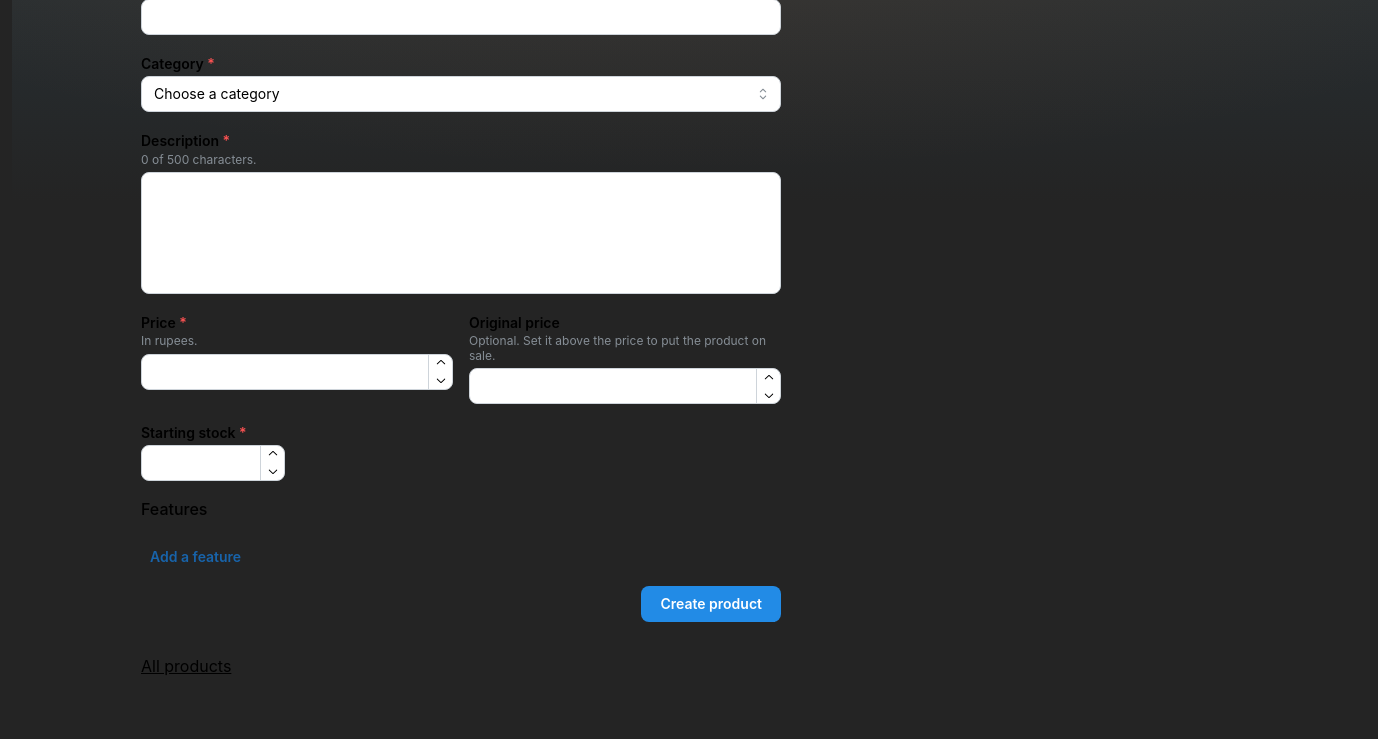
Test: new product › explains what's missing without sending anything
This screenshot has width=1378, height=739.
(page scrolled)
Click the button "Add a feature": (196, 557) [141, 544, 250, 570]
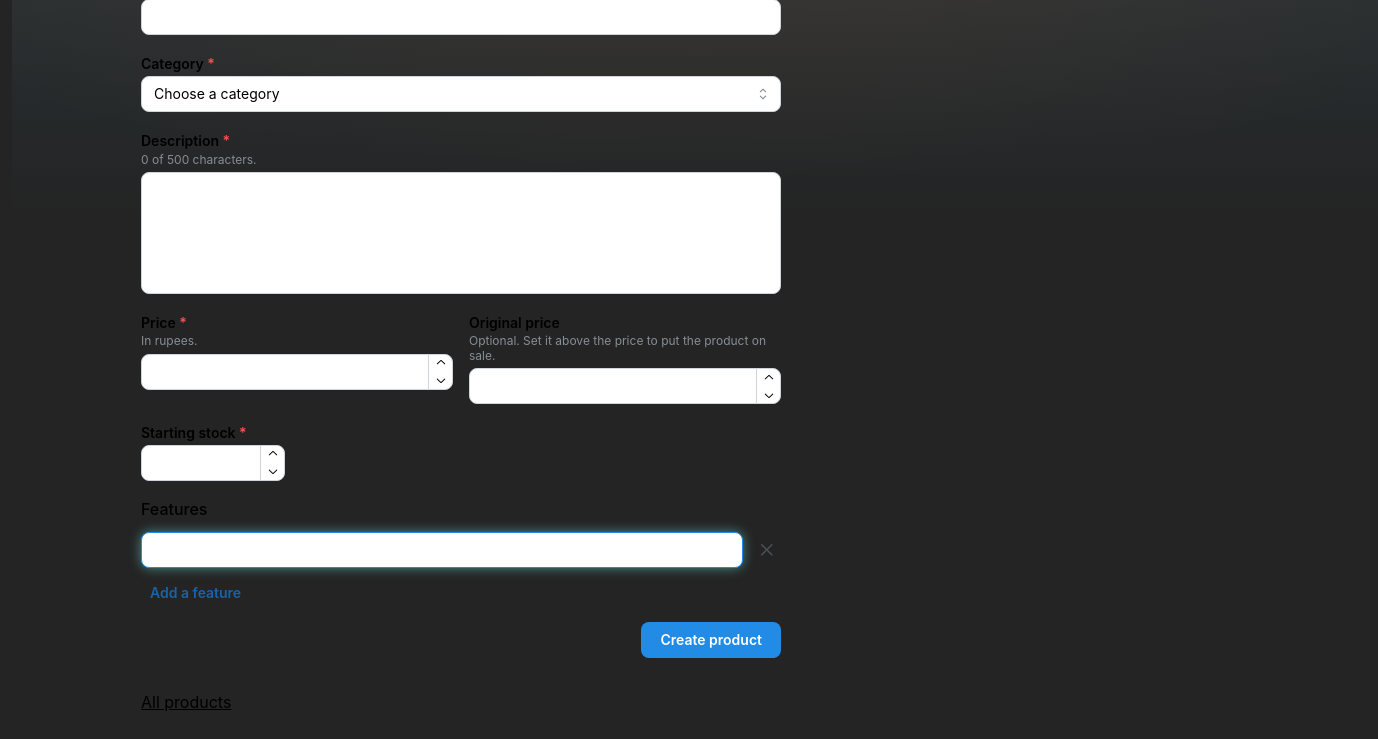
Click the button "Create product": (711, 640) [641, 622, 781, 658]
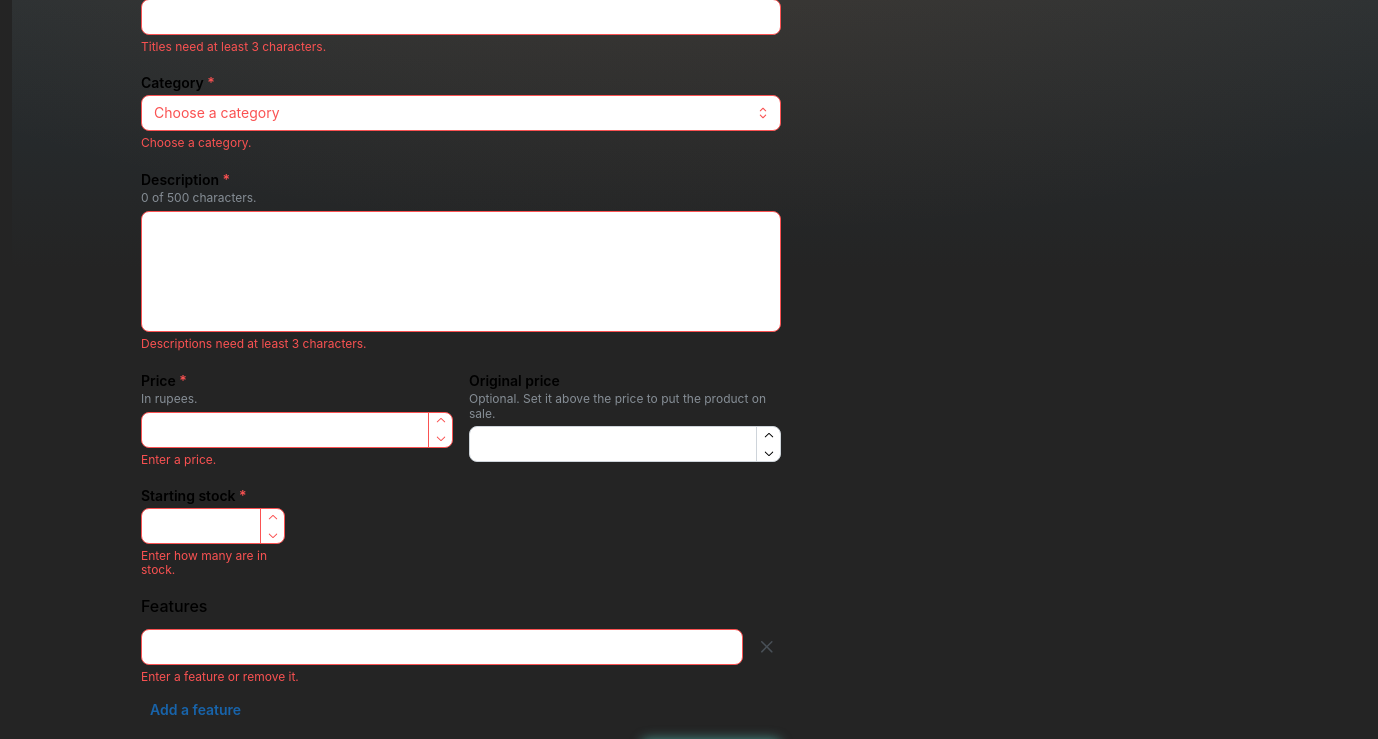
expect the text "Titles need at least 3 characters." is shown: met, box [141, 39, 326, 54]
expect the text "Choose a category." is shown: met, box [141, 135, 252, 150]
expect the text "Descriptions need at least 3 characters." is shown: met, box [141, 336, 366, 351]
